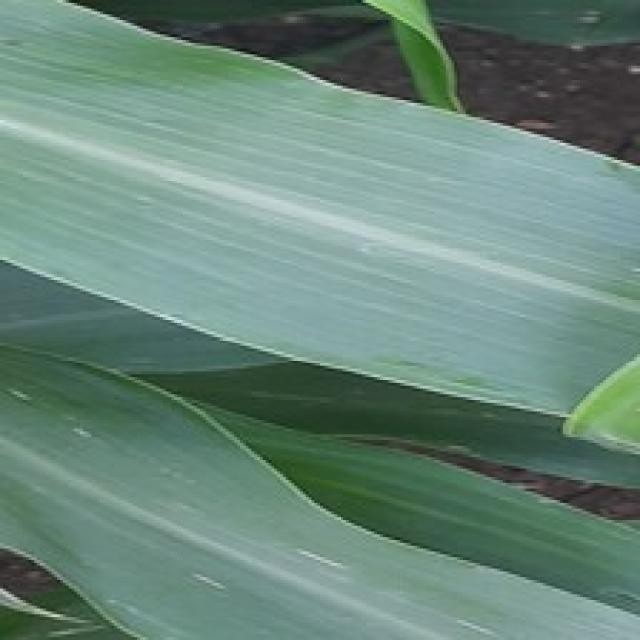Corn: (0, 0, 637, 637), (0, 0, 465, 111)
